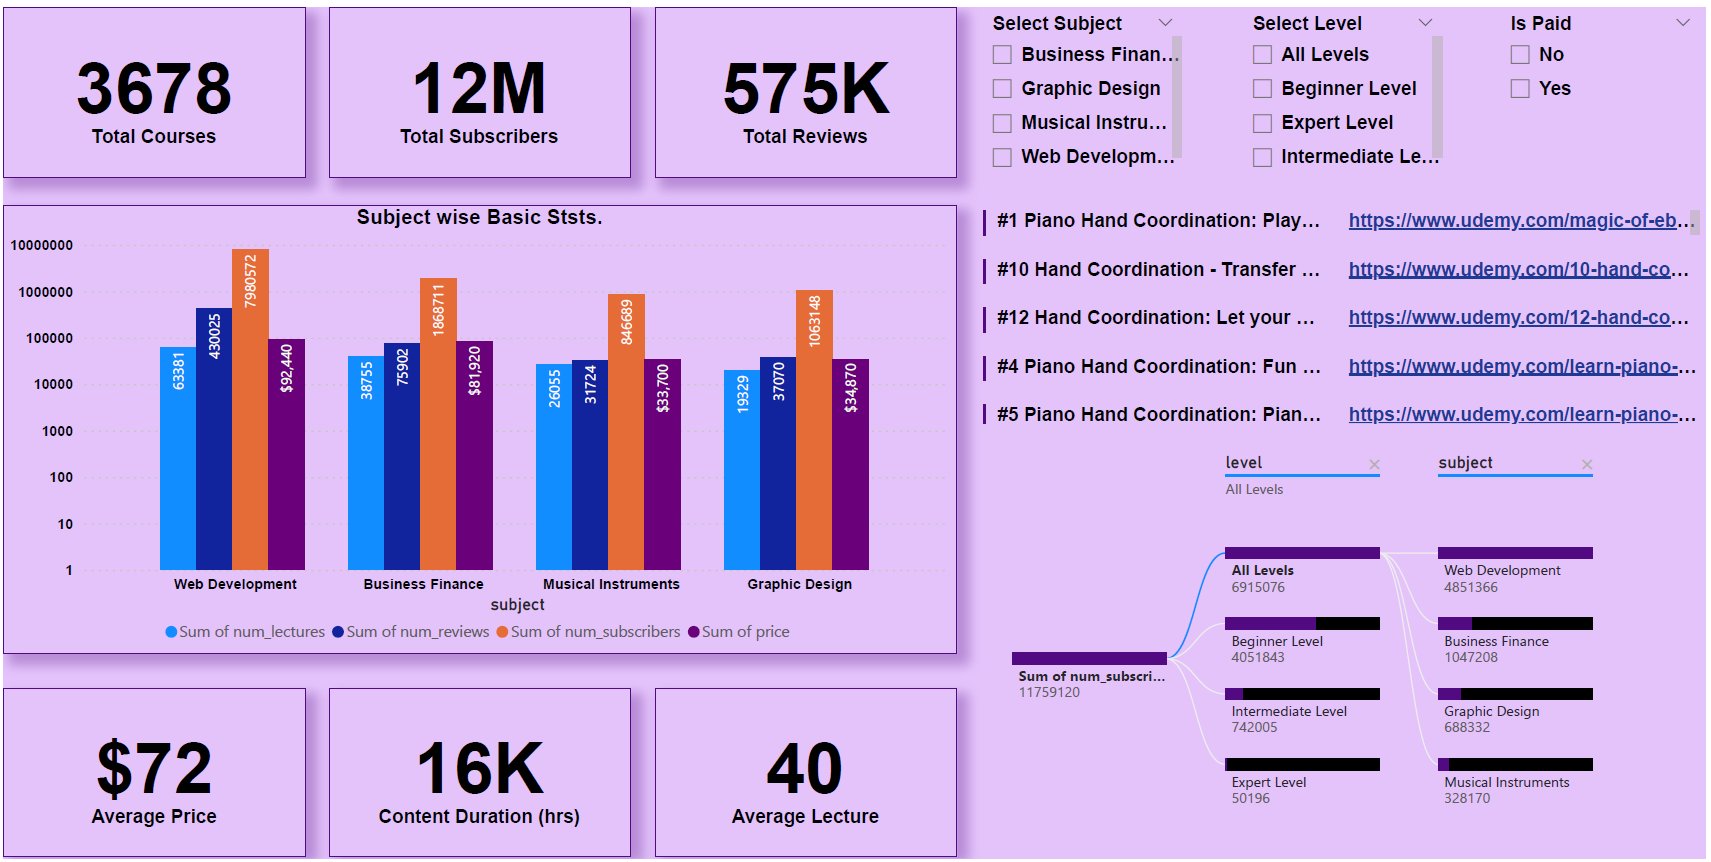

Layout of this report page (visuals, bound fields, positions):
{"tool":"powerbi","page":{"name":"Overview","canvas":[1440,720],"ordinal":0},"visuals":[{"type":"shape","box":[0,0,256.4,143.9],"z":0},{"type":"shape","box":[274.7,0,256.4,143.9],"z":1000},{"type":"shape","box":[550.7,0,256.4,143.9],"z":2000},{"type":"shape","box":[0,575.6,256.4,143.9],"z":3000},{"type":"shape","box":[274.7,575.6,256.4,143.9],"z":4000},{"type":"shape","box":[550.7,575.6,256.4,143.9],"z":5000},{"type":"shape","box":[0,167.4,807.1,379.4],"z":6000},{"type":"card","fields":{"Values":["Measure.Total Courses"]},"box":[0,0,255.1,143.9],"z":7000},{"type":"card","fields":{"Values":["Measure.Total Subscribers"]},"box":[274.7,0,255.1,143.9],"z":8000},{"type":"card","fields":{"Values":["Measure.Total Reviews"]},"box":[550.7,0,255.1,143.9],"z":9000},{"type":"card","fields":{"Values":["Measure.Average Price"]},"box":[0,575.6,255.1,143.9],"z":10000},{"type":"card","fields":{"Values":["Measure.Content Duration (hrs)"]},"box":[274.7,575.6,255.1,143.9],"z":11000},{"type":"card","fields":{"Values":["Measure.Average Lecture"]},"box":[550.7,575.6,255.1,143.9],"z":12000},{"type":"clusteredColumnChart","title":"Subject wise Basic Ststs.","fields":{"Category":["Udemy_data.subject"],"Y":["Sum(Udemy_data.num_lectures)","Sum(Udemy_data.num_reviews)","Sum(Udemy_data.num_subscribers)","Sum(Udemy_data.price)"]},"box":[0,167.4,805.8,379.4],"z":13000},{"type":"decompositionTreeVisual","fields":{"Analyze":["Sum(Udemy_data.num_subscribers)"],"ExplainBy":["Udemy_data.level","Udemy_data.subject"]},"box":[824.1,359.7,616.1,359.7],"z":14000},{"type":"multiRowCard","fields":{"Values":["Udemy_data.course_title","Udemy_data.url"]},"box":[824.1,167.4,616.1,189.7],"z":15000},{"type":"slicer","fields":{"Values":["Udemy_data.subject"]},"box":[824.1,0,177.9,143.9],"z":16000},{"type":"slicer","fields":{"Values":["Udemy_data.level"]},"box":[1043.9,0,177.9,143.9],"z":17000},{"type":"slicer","fields":{"Values":["Udemy_data.is_paid"]},"box":[1262.4,0,177.9,143.9],"z":18000}]}

Visuals, with their boxes in screenshot pixels (x1, y1, x2, y2), scaled from the page's 1440x720 canvas onto the 1711x862 screenshot:
shape: box=[0, 0, 305, 172]
shape: box=[326, 0, 631, 172]
shape: box=[654, 0, 959, 172]
shape: box=[0, 689, 305, 861]
shape: box=[326, 689, 631, 861]
shape: box=[654, 689, 959, 861]
shape: box=[0, 200, 959, 655]
card - Measure.Total Courses: box=[0, 0, 303, 172]
card - Measure.Total Subscribers: box=[326, 0, 630, 172]
card - Measure.Total Reviews: box=[654, 0, 957, 172]
card - Measure.Average Price: box=[0, 689, 303, 861]
card - Measure.Content Duration (hrs): box=[326, 689, 630, 861]
card - Measure.Average Lecture: box=[654, 689, 957, 861]
"Subject wise Basic Ststs." clusteredColumnChart: box=[0, 200, 957, 655]
decompositionTreeVisual - Sum(Udemy_data.num_subscribers) x Udemy_data.level: box=[979, 431, 1710, 861]
multiRowCard - Udemy_data.course_title x Udemy_data.url: box=[979, 200, 1710, 428]
slicer - Udemy_data.subject: box=[979, 0, 1191, 172]
slicer - Udemy_data.level: box=[1240, 0, 1452, 172]
slicer - Udemy_data.is_paid: box=[1500, 0, 1710, 172]
